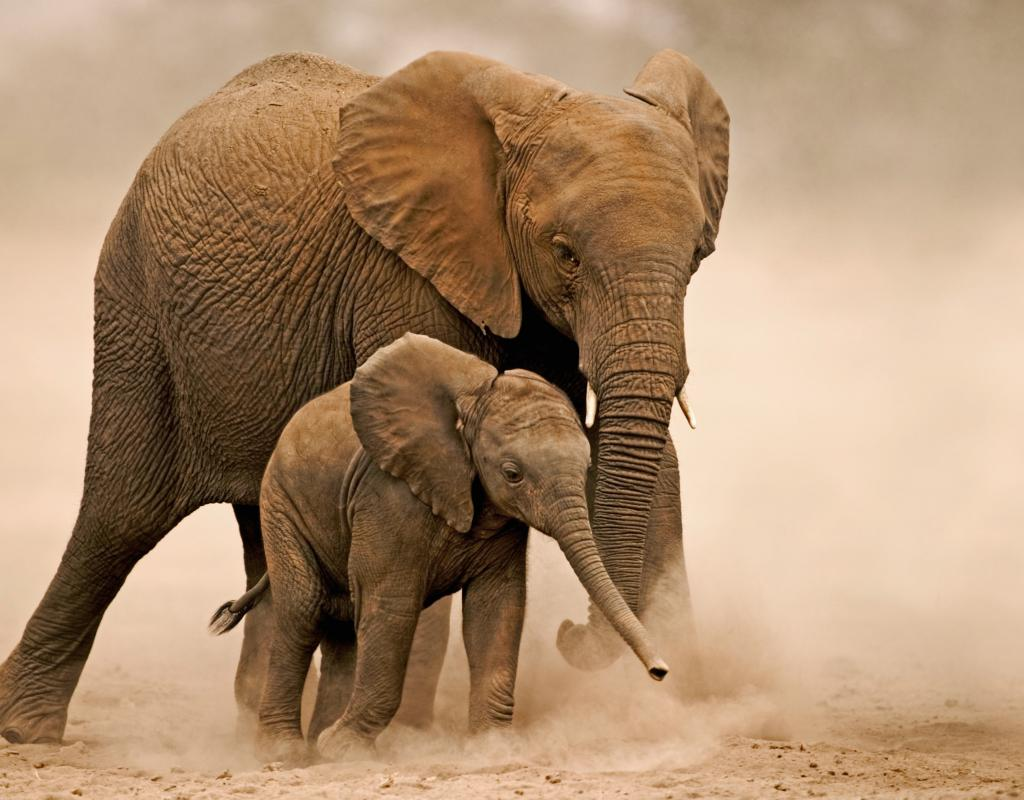elephant: (1, 40, 742, 743), (210, 345, 669, 800)
